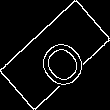O_NW: (23, 21, 87, 89)
